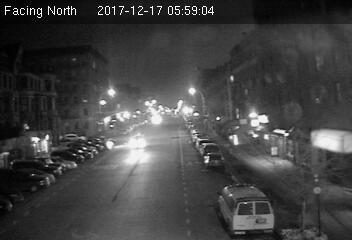car: (128, 133, 149, 151)
police: (218, 183, 276, 237)
